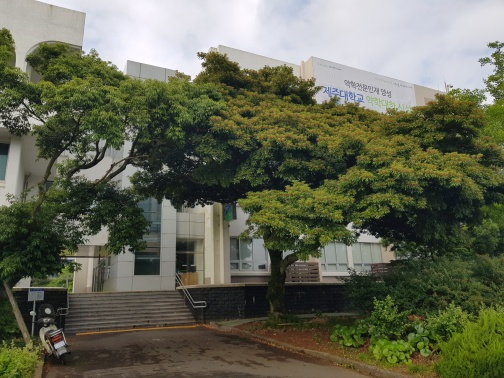Main Building of University: (5, 5, 406, 280), (103, 31, 209, 291)
